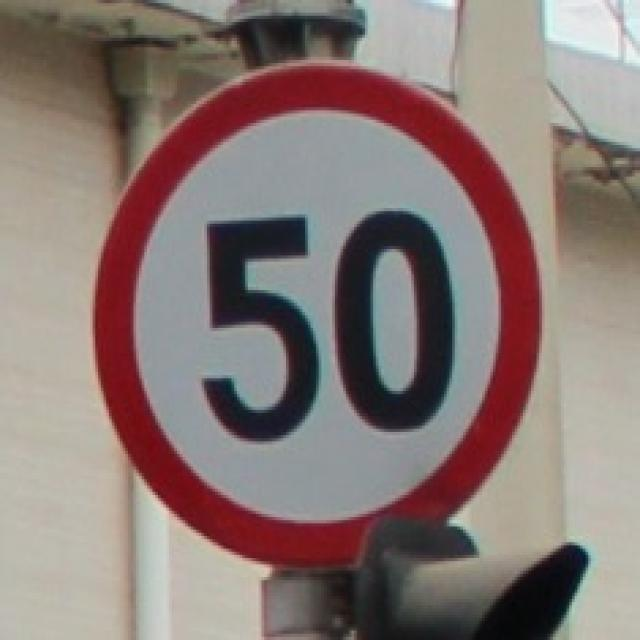Speed Limit -50-: (198, 196, 455, 447)
